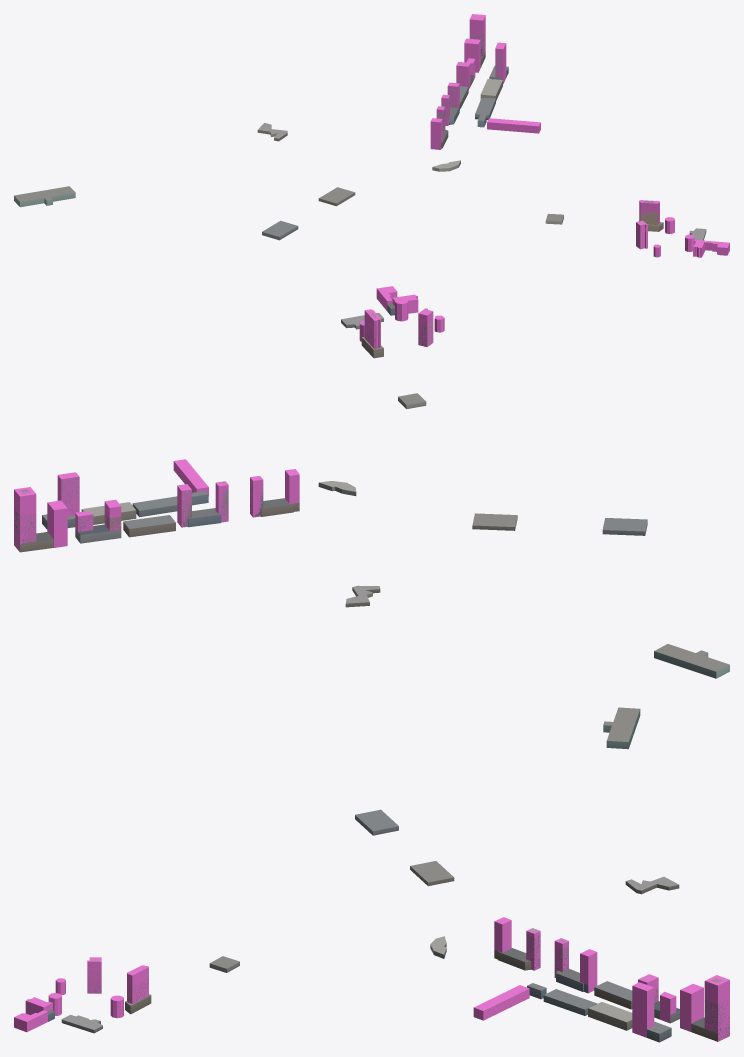
File: bld_5_3.fbx
3 renders of one model, top to bottom at view 1: azimuth 30°, elevation 25°; view 2: azimuth 150°, elevation 25°; view 3: azimuth 270°, elevation 25°, orthographic. The views are drawn at different scales.
Parts seen in each view (by area): view 1: bld_5_3_COL, bld_5_3_LOD0; view 2: bld_5_3_LOD0, bld_5_3_COL; view 3: bld_5_3_COL, bld_5_3_LOD0.
Boxes of the visible parts, x1,y1,x2,y2 form: bld_5_3_COL: (430,14,729,257); bld_5_3_LOD0: (14,16,706,248); bld_5_3_LOD0: (14,300,729,678); bld_5_3_COL: (14,286,444,551); bld_5_3_COL: (14,917,729,1041); bld_5_3_LOD0: (48,707,729,1042).
Size of what is drawn, in the model's own units: 1986 by 159 by 1832.
